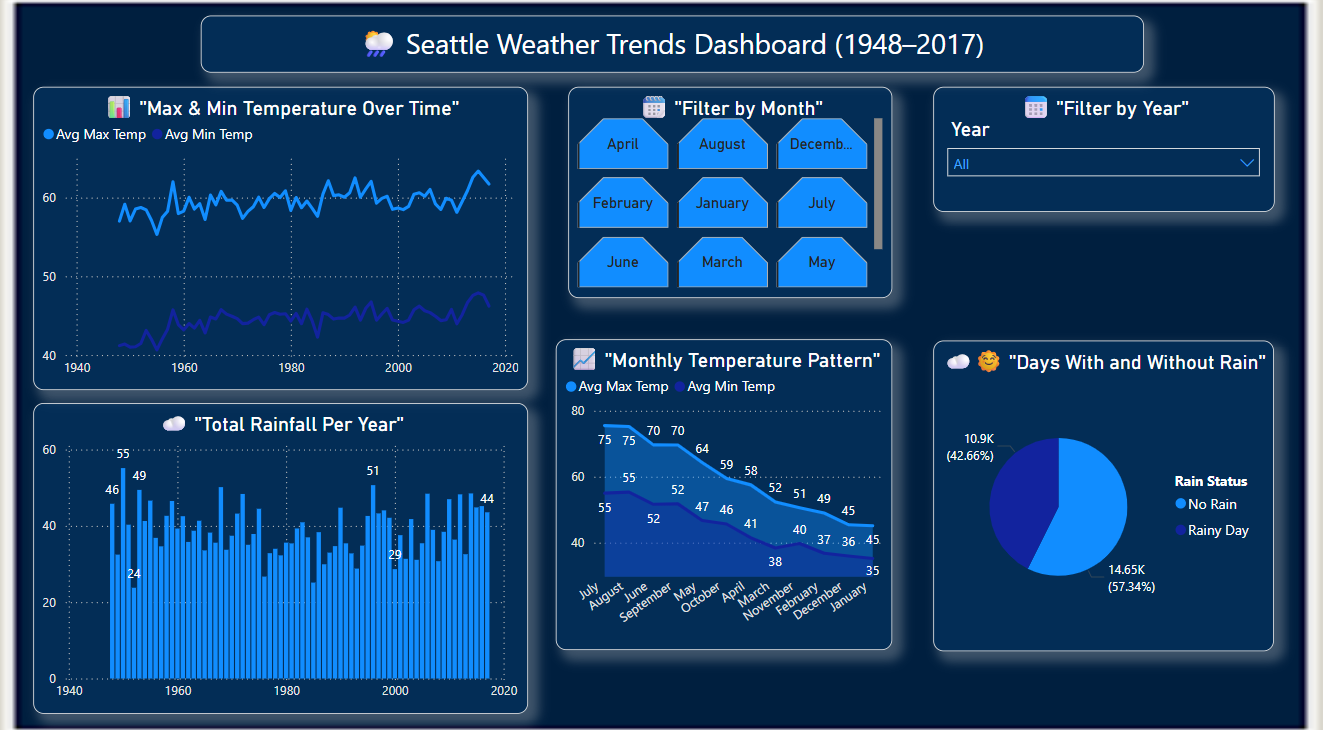

What the dashboard file says about the page in this screenshot:
{"tool":"powerbi","page":{"name":"Page 1","canvas":[1280,720],"ordinal":0},"visuals":[{"type":"lineChart","title":"📊 \"Max & Min Temperature Over Time\"","fields":{"Category":["seattleWeather_1948-2017.Year"],"Y":["seattleWeather_1948-2017.Avg Max Temp","seattleWeather_1948-2017.Avg Min Temp"]},"box":[34.6,90.9,477.6,292.9],"z":0},{"type":"columnChart","title":"☁️ \"Total Rainfall Per Year\"","fields":{"Category":["seattleWeather_1948-2017.Year"],"Y":["Sum(seattleWeather_1948-2017.PRCP)"]},"box":[34.6,395.3,477.6,300.1],"z":1000},{"type":"slicer","title":"📅 \"Filter by Year\"","fields":{"Values":["seattleWeather_1948-2017.Year"]},"box":[903.6,90.5,329.4,120.6],"z":2000},{"type":"advancedSlicerVisual","title":"🗓️ \"Filter by Month\"","fields":{"Values":["seattleWeather_1948-2017.Month"]},"box":[551.3,90.5,312.5,203.9],"z":3000},{"type":"areaChart","title":"📈 \"Monthly Temperature Pattern\"","fields":{"Category":["seattleWeather_1948-2017.Month"],"Y":["seattleWeather_1948-2017.Avg Max Temp","seattleWeather_1948-2017.Avg Min Temp"]},"box":[539.6,334.7,324.6,300.1],"z":4000},{"type":"pieChart","title":"☁️🌞 \"Days With and Without Rain\"","fields":{"Category":["seattleWeather_1948-2017.Rain Status"],"Y":["CountNonNull(seattleWeather_1948-2017.Rain Status)"]},"box":[904,335,329,300],"z":5000},{"type":"textbox","box":[196.2,21.6,910.4,54.8],"z":6000}]}

Visuals, with their boxes in screenshot pixels (x1, y1, x2, y2), scaled from the page's 1280x720 canvas onto the 1323x730 screenshot:
"📊 "Max & Min Temperature Over Time"" lineChart: bbox(36, 92, 529, 389)
"☁️ "Total Rainfall Per Year"" columnChart: bbox(36, 401, 529, 705)
"📅 "Filter by Year"" slicer: bbox(934, 92, 1274, 214)
"🗓️ "Filter by Month"" advancedSlicerVisual: bbox(570, 92, 893, 298)
"📈 "Monthly Temperature Pattern"" areaChart: bbox(558, 339, 893, 644)
"☁️🌞 "Days With and Without Rain"" pieChart: bbox(934, 340, 1274, 644)
textbox: bbox(203, 22, 1144, 77)
